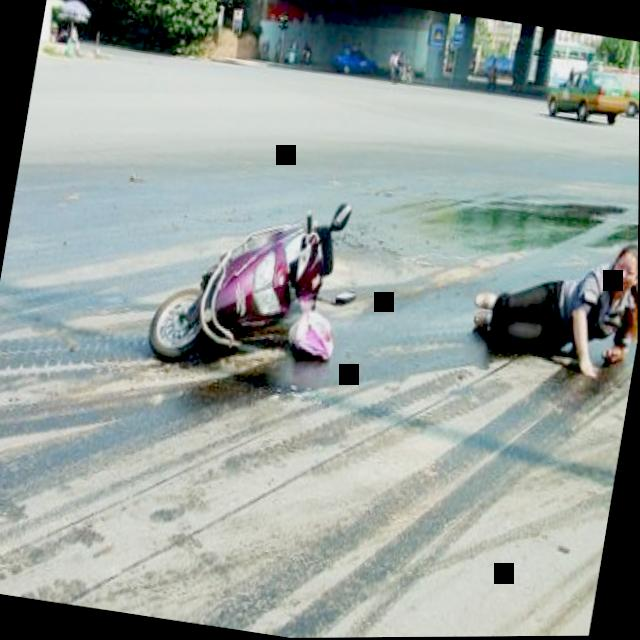Fall-Detected: (460, 209, 639, 393)
